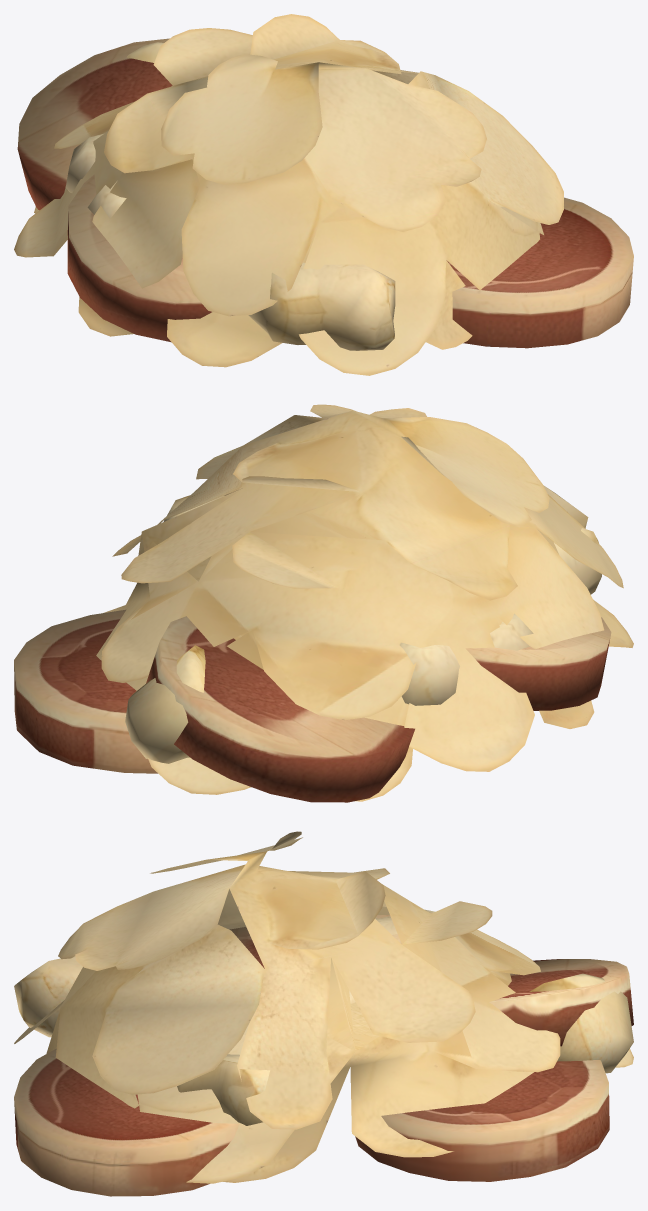
The model's file is harvest.glb.
3 renders of one model, top to bottom at view 1: azimuth 30°, elevation 25°; view 2: azimuth 150°, elevation 25°; view 3: azimuth 270°, elevation 25°, orthographic. The views are drawn at different scales.
Visible parts, largest first — view 1: wool, meat, bone; view 2: wool, meat, bone; view 3: wool, meat, bone.
Part boxes in pixels (bbox=[...]): wool: bbox=[14, 14, 563, 375]; meat: bbox=[17, 38, 633, 348]; bone: bbox=[65, 42, 503, 350]; wool: bbox=[96, 404, 633, 801]; meat: bbox=[14, 490, 611, 802]; bone: bbox=[125, 485, 601, 787]; wool: bbox=[14, 831, 633, 1183]; meat: bbox=[14, 915, 633, 1196]; bone: bbox=[14, 909, 633, 1125].
Size of the model in its own units: 0.8321 by 0.4062 by 1.
1 material, 1 textured.
